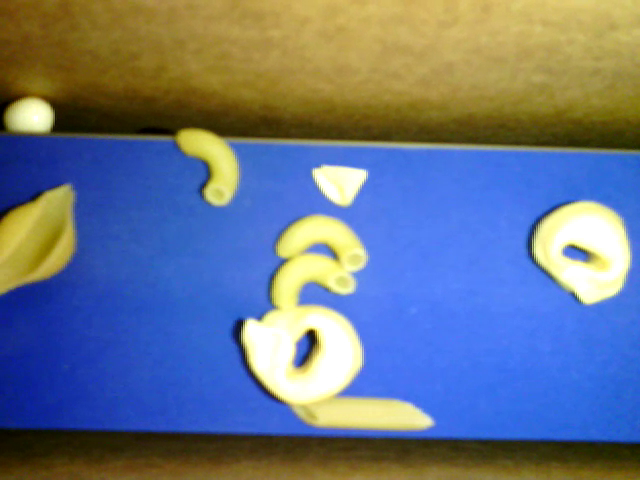elbow: (275, 213, 369, 275), (175, 128, 241, 207), (270, 253, 357, 309)
penne: (287, 398, 435, 431)
shell: (1, 183, 76, 292)
tortellini: (240, 304, 361, 403), (530, 199, 630, 305)
